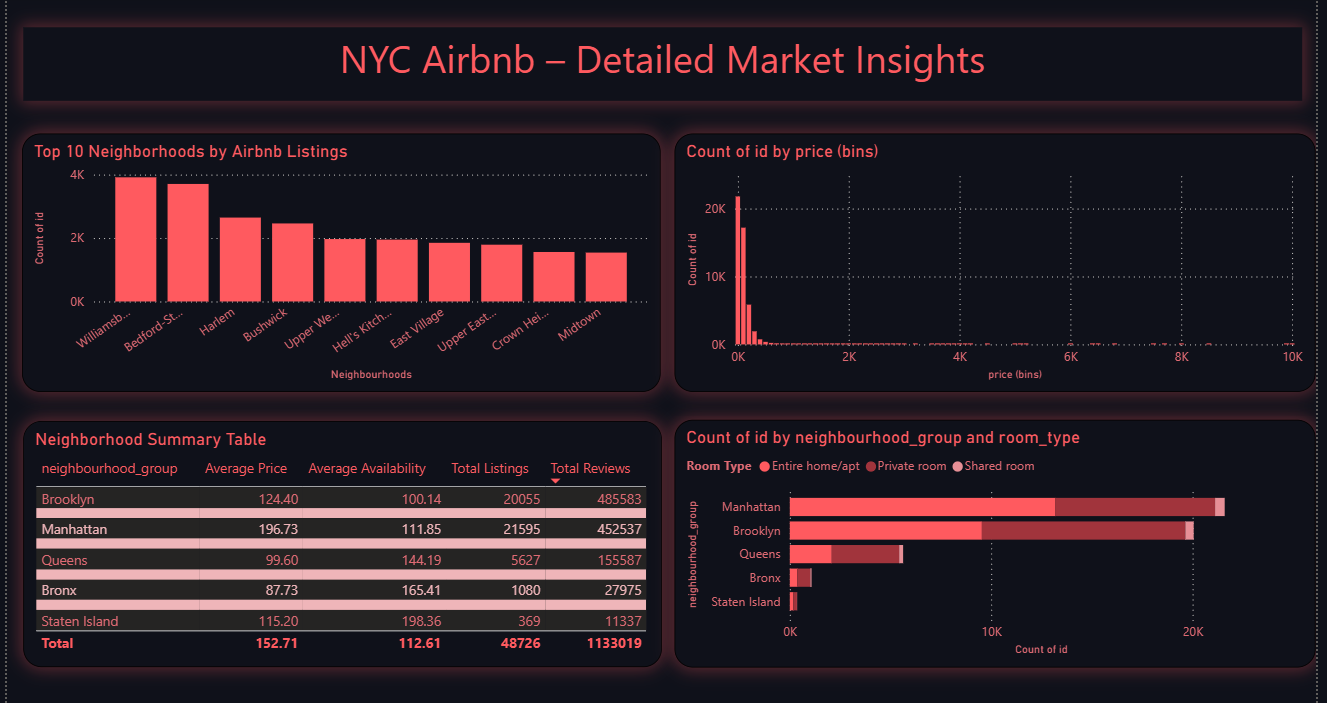

What the dashboard file says about the page in this screenshot:
{"tool":"powerbi","page":{"name":"Detailed insights","canvas":[1280,720],"ordinal":1},"visuals":[{"type":"textbox","box":[15.9,30.3,1250.9,72.1],"z":0},{"type":"columnChart","title":"Top 10 Neighborhoods by Airbnb Listings","fields":{"Category":["AB_NYC_2019.neighbourhood"],"Y":["CountNonNull(AB_NYC_2019.id)"]},"box":[14.4,134.2,404,268.4],"z":1000},{"type":"tableEx","title":"Neighborhood Summary Table","fields":{"Values":["AB_NYC_2019.neighbourhood_group","AB_NYC_2019.Average Price","AB_NYC_2019.Average Availability","AB_NYC_2019.Total Listings","AB_NYC_2019.Total Reviews"]},"box":[431.4,134.2,414.1,268.4],"z":2000},{"type":"barChart","title":"Room Type Distribution Across Neighbourhood Groups","fields":{"Category":["AB_NYC_2019.neighbourhood_group"],"Series":["AB_NYC_2019.room_type"],"Y":["CountNonNull(AB_NYC_2019.id)"]},"box":[858.4,134.5,408.4,267.8],"z":3000},{"type":"clusteredColumnChart","title":"Price distribution","fields":{"Category":["AB_NYC_2019.price (bins)"],"Y":["CountNonNull(AB_NYC_2019.id)"]},"box":[15.9,421.9,635.9,281.3],"z":4000},{"type":"actionButton","title":"Back to Main View","box":[664,665.2,602.9,37.9],"z":5000},{"type":"textbox","title":"Key Insights","box":[664,421.9,602.9,229.9],"z":6000}]}

Visuals, with their boxes on the page's 1280x720 design canvas (x1, y1, x2, y2). These are canvas units, not pixel positions in the 1327x703 screenshot, which may show the page scaled, cropped or inside an application window:
textbox: detection(16, 30, 1267, 102)
"Top 10 Neighborhoods by Airbnb Listings" columnChart: detection(14, 134, 418, 403)
"Neighborhood Summary Table" tableEx: detection(431, 134, 846, 403)
"Room Type Distribution Across Neighbourhood Groups" barChart: detection(858, 134, 1267, 402)
"Price distribution" clusteredColumnChart: detection(16, 422, 652, 703)
"Back to Main View" actionButton: detection(664, 665, 1267, 703)
"Key Insights" textbox: detection(664, 422, 1267, 652)
